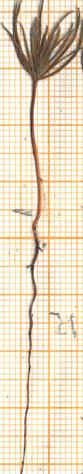flower: (0, 0, 83, 82)
root: (16, 214, 46, 474)
stem: (27, 82, 45, 215)
